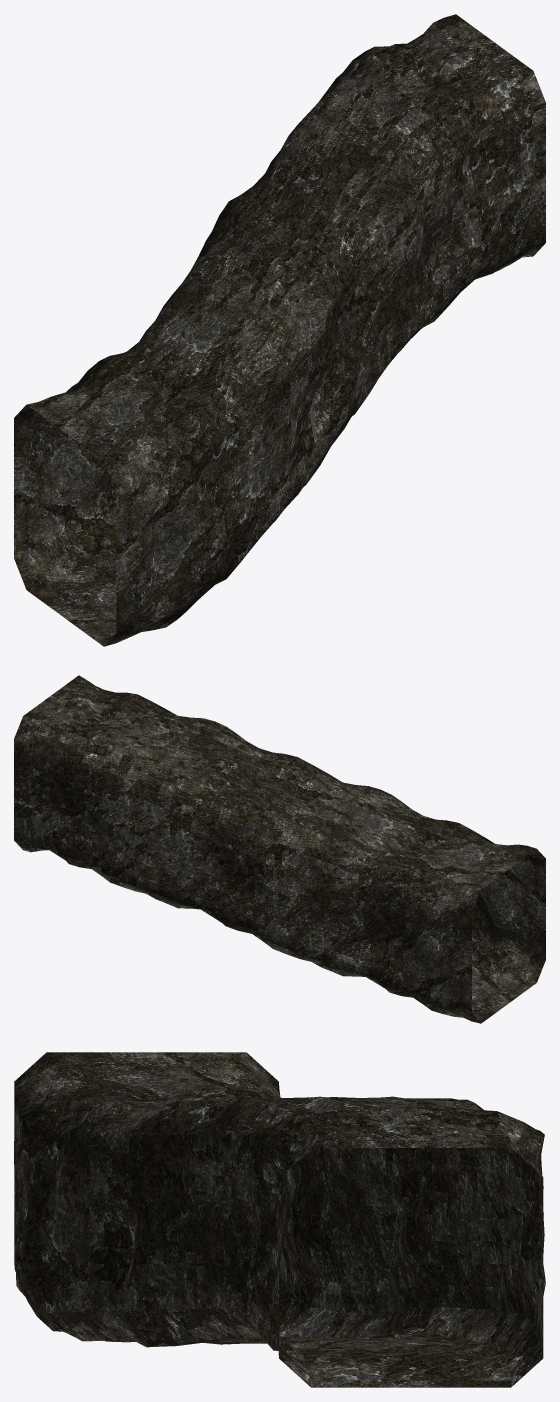
Rendered from Cave_061.fbx.
3 renders of one model, top to bottom at view 1: azimuth 30°, elevation 25°; view 2: azimuth 150°, elevation 25°; view 3: azimuth 270°, elevation 25°, orthographic. The views are drawn at different scales.
Parts seen in each view (by area): view 1: Cave.061; view 2: Cave.061; view 3: Cave.061.
Part boxes in pixels (x1,y1,x2,y2): Cave.061: (14, 14, 545, 646); Cave.061: (14, 675, 545, 1023); Cave.061: (14, 1052, 545, 1387).
Bounding box in the file's own units: 900 × 604 × 603.
